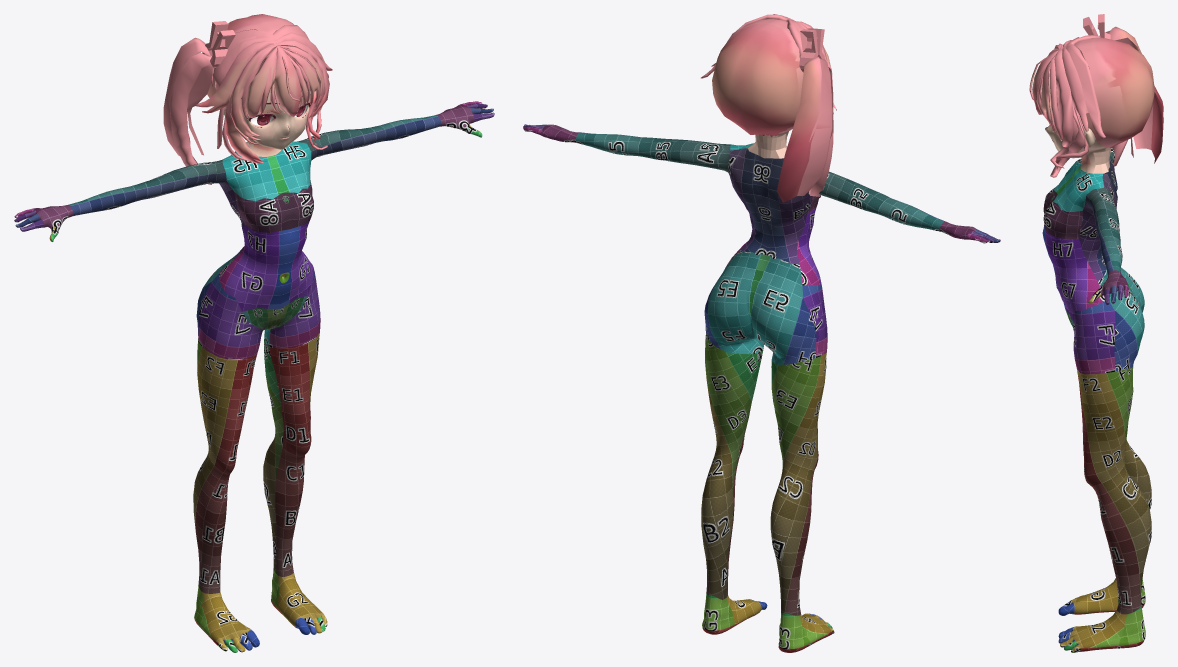
Rendered from natsu_swimsuit_007_merge4rig.fbx.
3 renders of one model, left to right at view 1: azimuth 30°, elevation 25°; view 2: azimuth 150°, elevation 25°; view 3: azimuth 270°, elevation 25°, orthographic. The views are drawn at different scales.
Visible parts, largest first — view 1: NatsuBody07; view 2: NatsuBody07; view 3: NatsuBody07.
Boxes of the visible parts, left/top/right/bottom form: NatsuBody07: left=14, top=14, right=494, bottom=652; NatsuBody07: left=523, top=14, right=1000, bottom=652; NatsuBody07: left=1029, top=14, right=1163, bottom=652.
Size of the model in its own units: 126 by 155 by 31.9.
5 materials, 5 textured.
